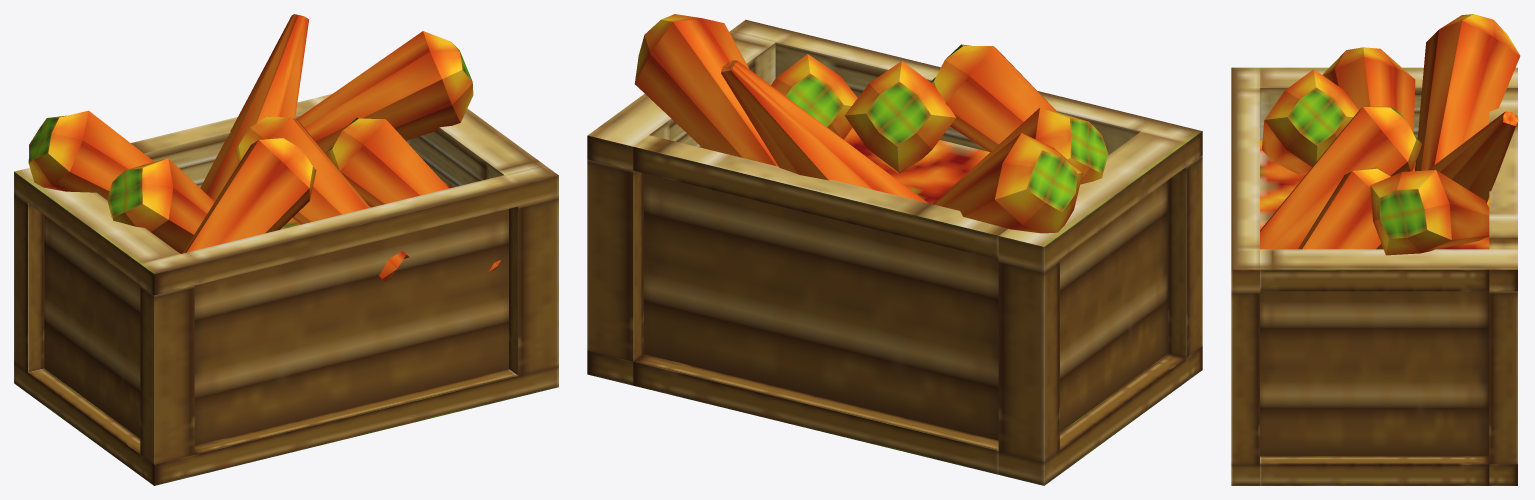
Rendered from Poly_Crate_05.obj.
3 renders of one model, left to right at view 1: azimuth 30°, elevation 25°; view 2: azimuth 150°, elevation 25°; view 3: azimuth 270°, elevation 25°, orthographic. The views are drawn at different scales.
Parts seen in each view (by area): view 1: Cube, Cube.002_Cube.010, Cube.005_Cube.013, Cube.003_Cube.011, Cube.007_Cube.003, Cube.004_Cube.012, Cube.006_Cube.002, Cube.001; view 2: Cube, Cube.002_Cube.010, Cube.003_Cube.011, Cube.006_Cube.002, Cube.005_Cube.013, Cube.001, Cube.004_Cube.012, Cube.007_Cube.003; view 3: Cube, Cube.003_Cube.011, Cube.001, Cube.002_Cube.010, Cube.005_Cube.013, Cube.007_Cube.003, Cube.004_Cube.012, Cube.006_Cube.002.
Boxes of the visible parts, x1,y1,x2,y2 form: Cube: [14, 94, 558, 485]; Cube.002_Cube.010: [295, 31, 473, 153]; Cube.005_Cube.013: [182, 137, 316, 253]; Cube.003_Cube.011: [28, 110, 154, 200]; Cube.007_Cube.003: [326, 117, 500, 272]; Cube.004_Cube.012: [107, 158, 214, 253]; Cube.006_Cube.002: [200, 14, 308, 201]; Cube.001: [235, 116, 409, 282]; Cube: [587, 20, 1202, 485]; Cube.002_Cube.010: [634, 14, 778, 166]; Cube.003_Cube.011: [932, 133, 1082, 233]; Cube.006_Cube.002: [721, 60, 927, 202]; Cube.005_Cube.013: [930, 44, 1057, 152]; Cube.001: [844, 61, 956, 173]; Cube.004_Cube.012: [943, 107, 1108, 194]; Cube.007_Cube.003: [771, 54, 857, 139]; Cube: [1231, 67, 1517, 485]; Cube.003_Cube.011: [1415, 14, 1520, 171]; Cube.001: [1260, 106, 1421, 249]; Cube.002_Cube.010: [1370, 170, 1489, 255]; Cube.005_Cube.013: [1261, 69, 1358, 174]; Cube.007_Cube.003: [1298, 167, 1390, 249]; Cube.004_Cube.012: [1322, 47, 1415, 133]; Cube.006_Cube.002: [1428, 111, 1518, 203].
Bounding box in the file's own units: 1.01 × 0.7183 × 0.6051.
Materials: 1 (1 with a texture image).
